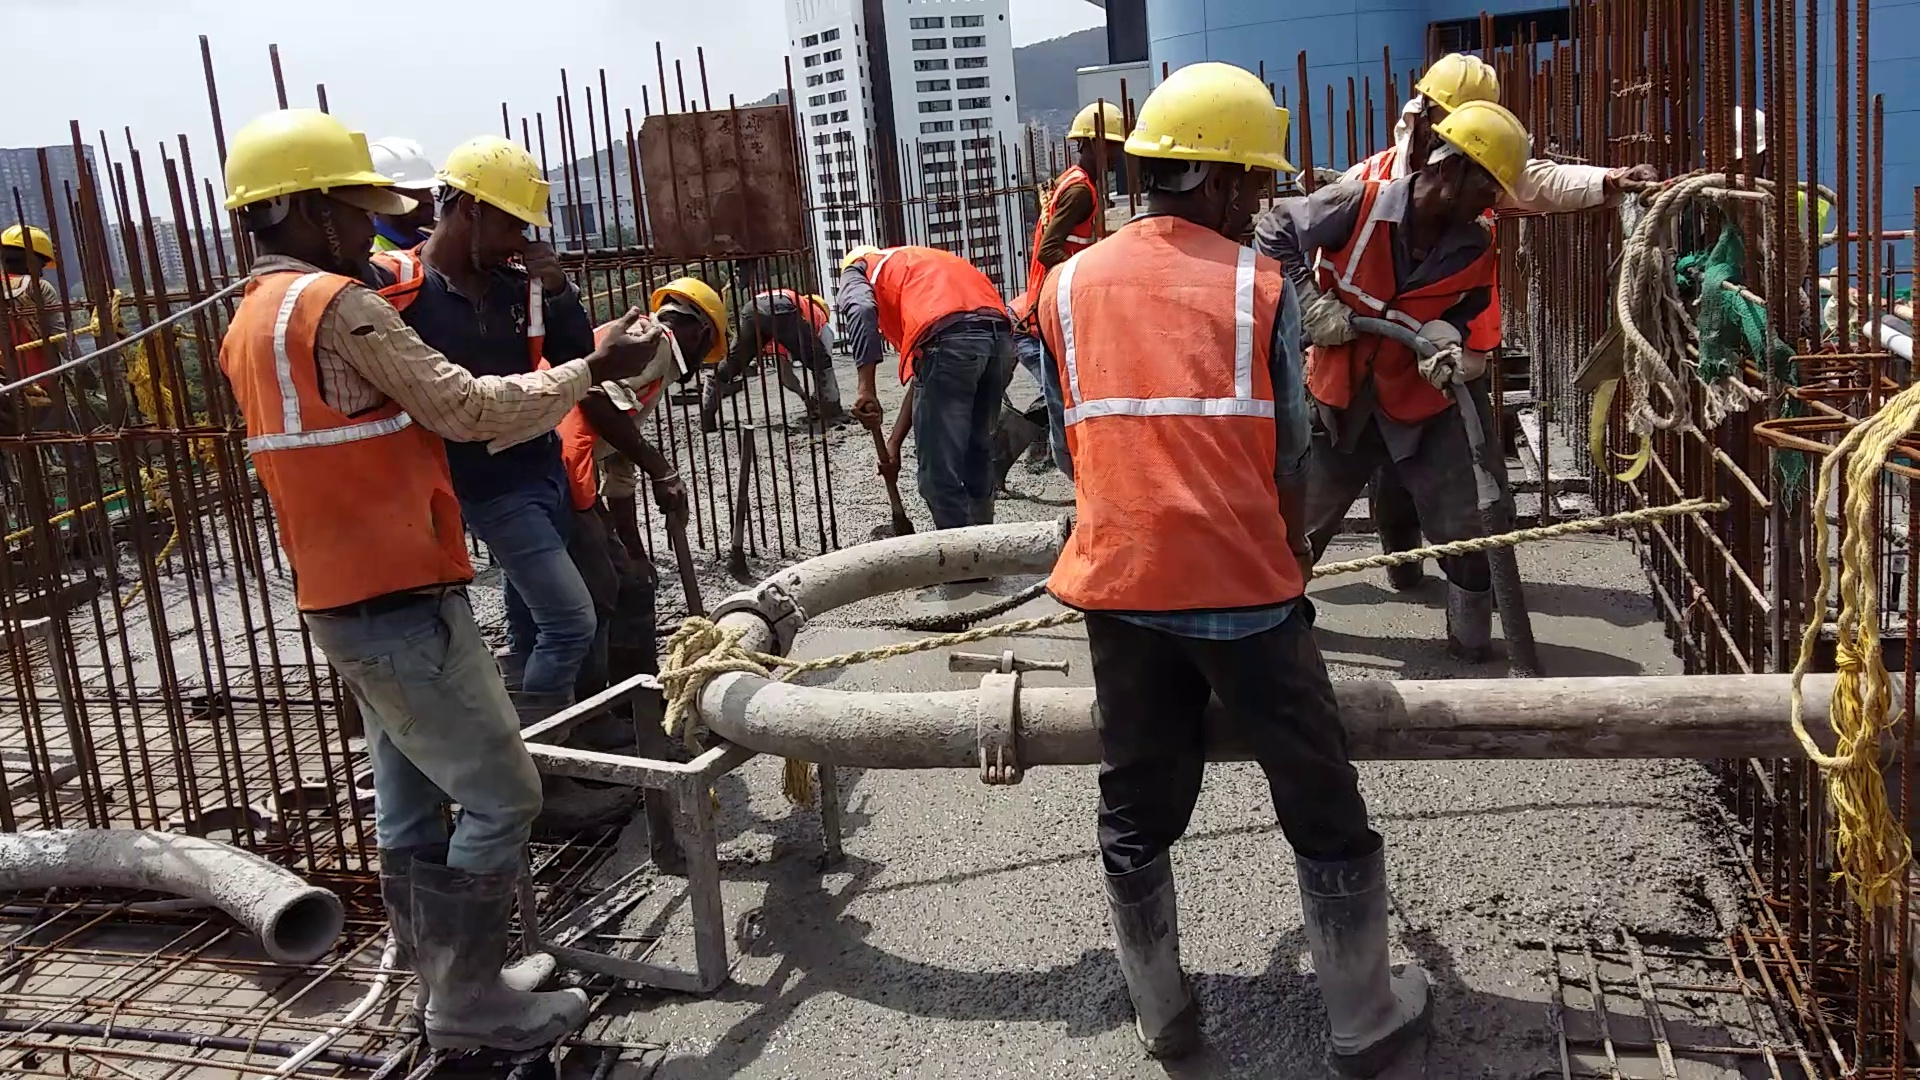NoJacket: (435, 133, 527, 361)
SAFE: (1054, 61, 1300, 607), (223, 107, 419, 588), (1338, 94, 1520, 411), (829, 237, 1015, 365)
